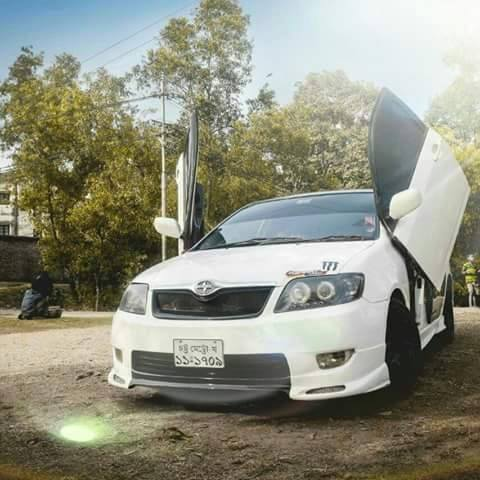registration_plate: (173, 338, 226, 369)
